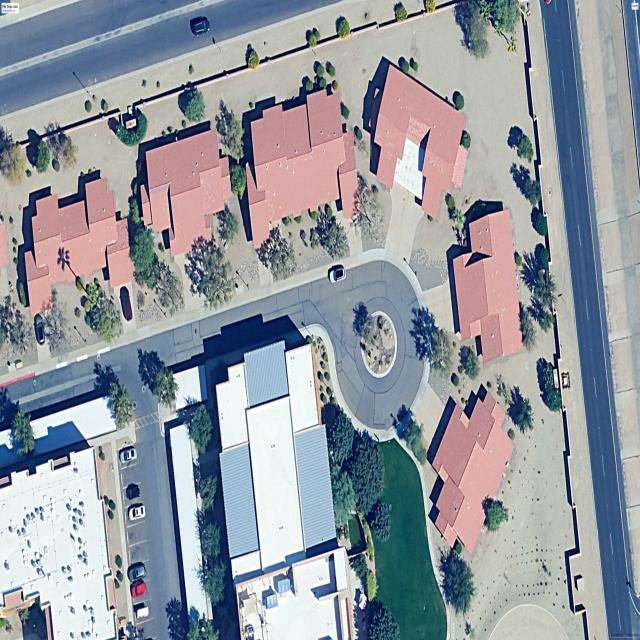Home: (245, 90, 356, 249), (25, 178, 132, 314), (374, 66, 467, 218), (432, 386, 513, 553), (141, 129, 232, 257), (453, 210, 523, 362)
